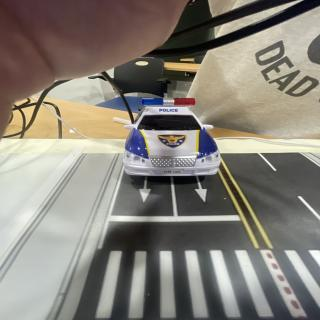Police_car: (123, 98, 221, 176)
